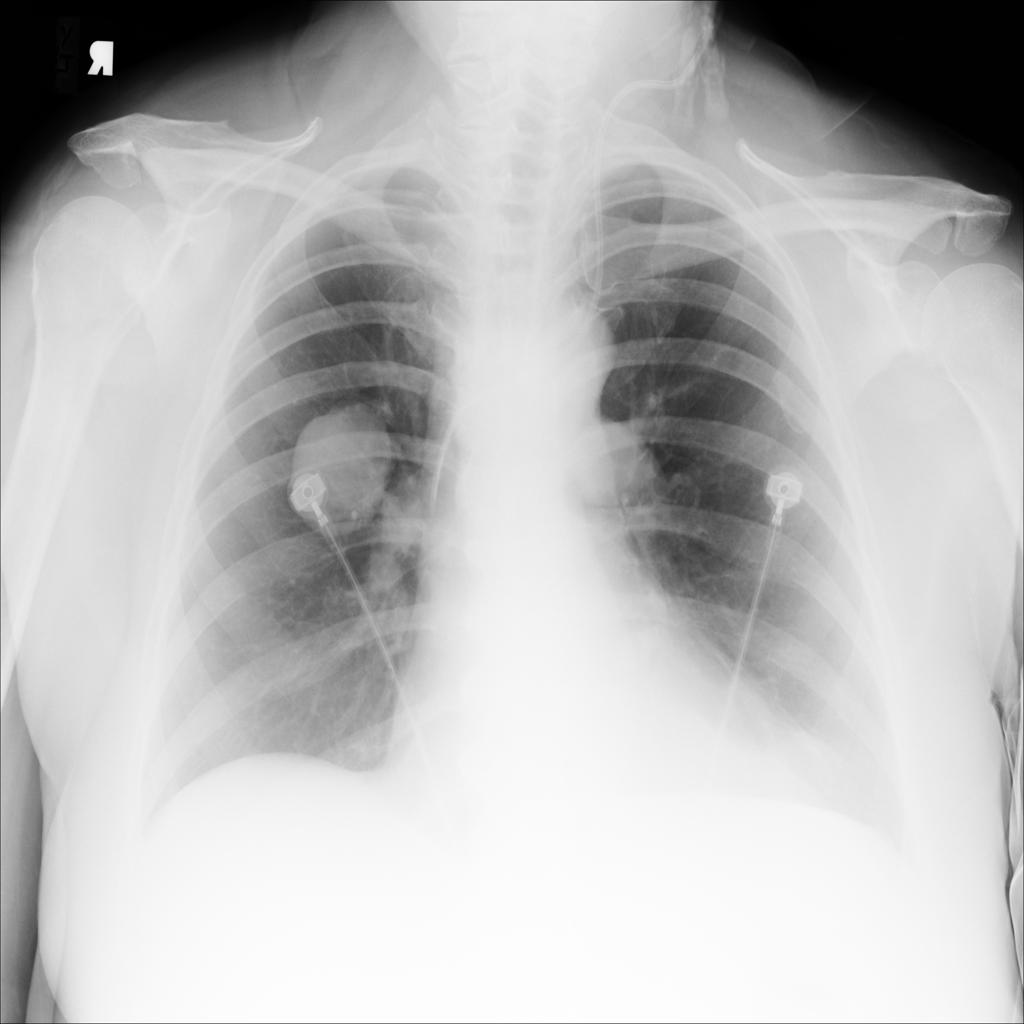nodule: (273, 390, 406, 545), (553, 407, 660, 518), (348, 534, 417, 602)
